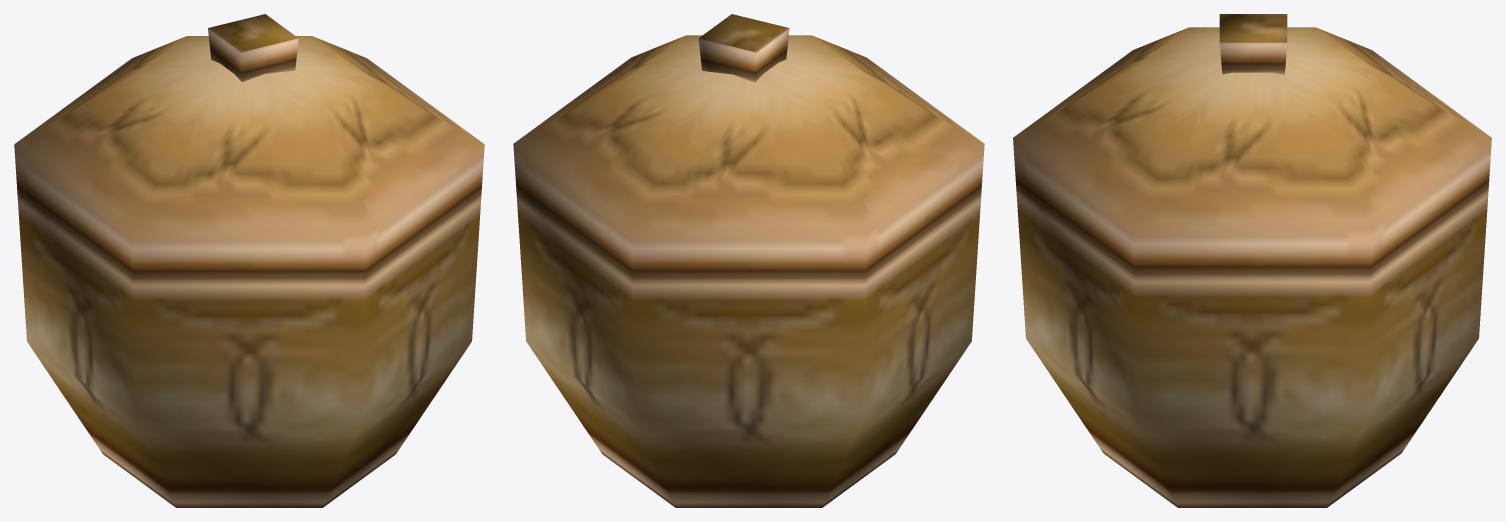
Rendered from jar03.glb.
3 views of the same model, side by side, from view 1: azimuth 30°, elevation 25°; view 2: azimuth 150°, elevation 25°; view 3: azimuth 270°, elevation 25° (orthographic).
Size of the model in its own units: 0.465 by 0.5285 by 0.5369.
1 material, 1 textured.
